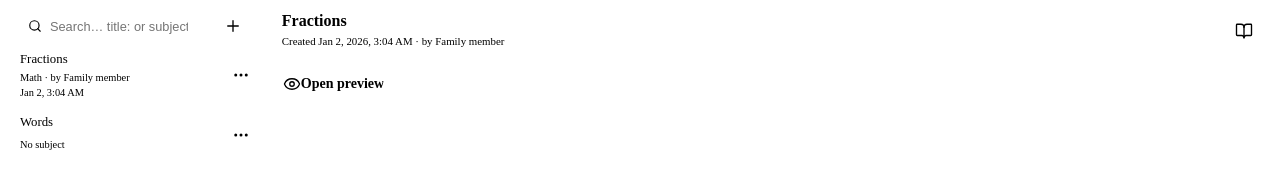
Test: filters by title and subject, resets with Escape, and shows empty results
Expected: the button "Fractions Math · by Family member Jan 2, 3:04 AM" is shown, [8, 44, 227, 107]
Expected: the button "Words No subject" is shown, [8, 107, 227, 163]
Type "title:fractions" into the search field named "Search homework". click: (125, 26)
box: [50, 12, 201, 40]
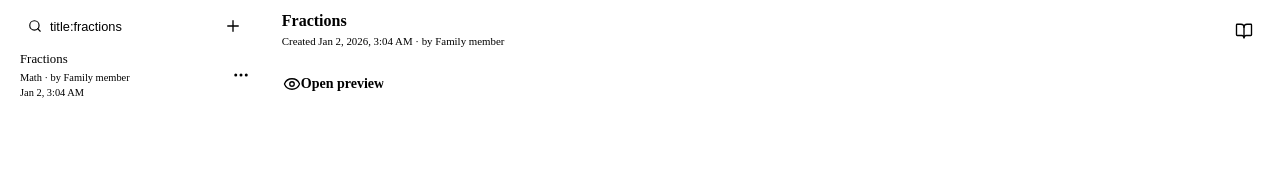
Expected: the button "Words No subject" is gone
Replace the text in the search field named "Search homework" with "subject:math". click: (125, 26)
box: [50, 12, 201, 40]
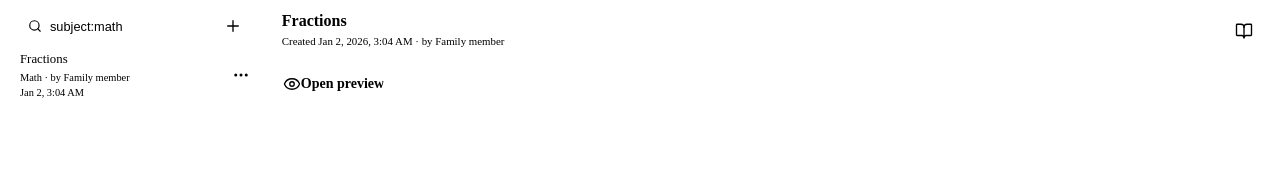
Expected: the button "Fractions Math · by Family member Jan 2, 3:04 AM" is shown, [8, 44, 227, 107]
Replace the text in the search field named "Search homework" with "missing". click: (125, 26)
box: [50, 12, 201, 40]
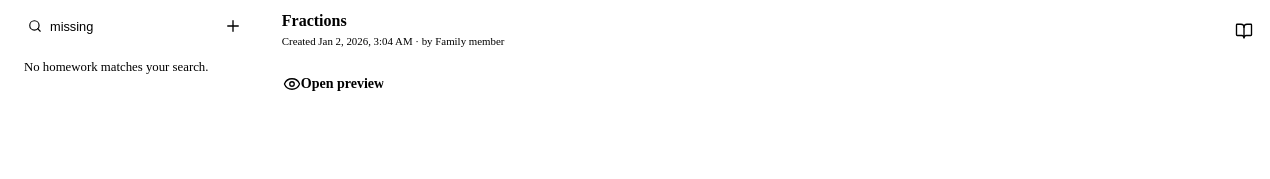
Expected: the list item "No homework matches your search." is shown, [24, 60, 208, 74]
Press Escape in the search field named "Search homework", box [50, 12, 201, 40]
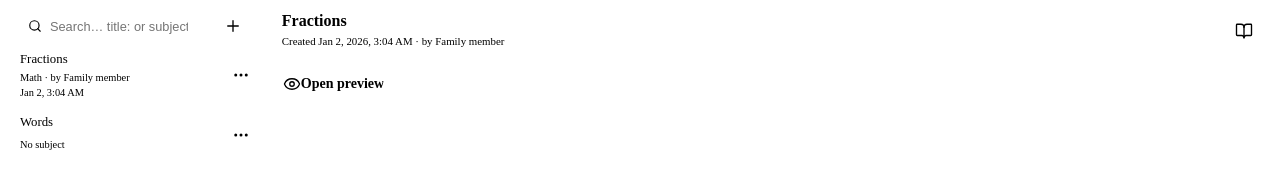
Expected: the search field named "Search homework" is empty, [50, 12, 201, 40]
Expected: the button "Words No subject" is shown, [8, 107, 227, 163]
